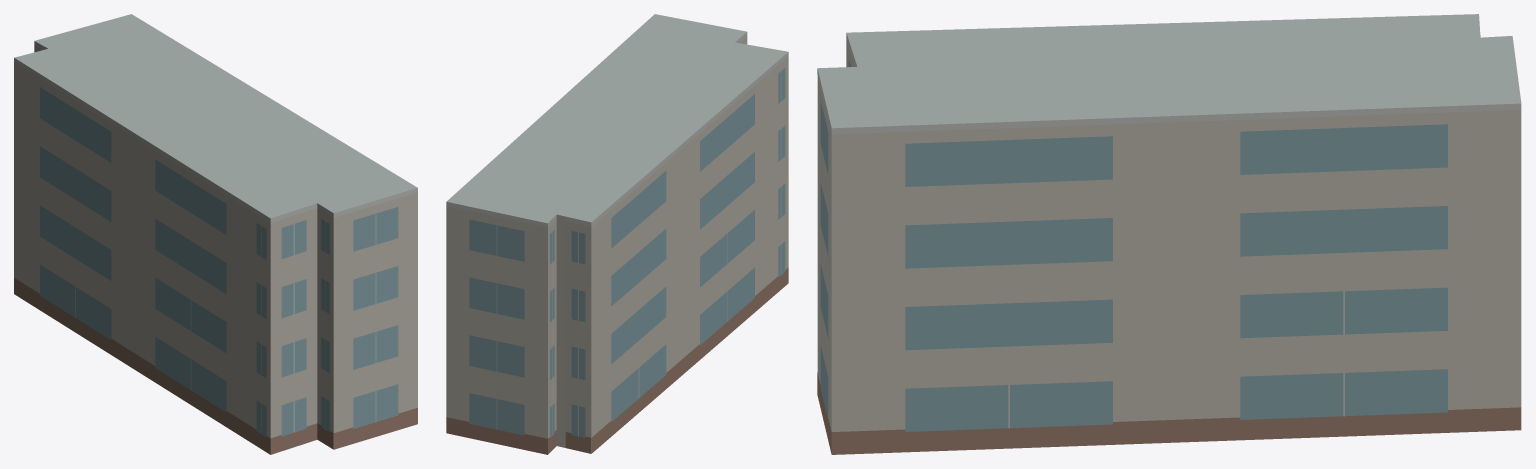
Rendered from survey-upis-32892641.glb.
The picture shows the model from 3 angles, left to right: view 1: azimuth 30°, elevation 25°; view 2: azimuth 150°, elevation 25°; view 3: azimuth 270°, elevation 25°; orthographic projection. The views are drawn at different scales.
Parts seen in each view (by area): view 1: survey-upis-32892641.tmp; view 2: survey-upis-32892641.tmp; view 3: survey-upis-32892641.tmp.
Part boxes in pixels (x1=…): survey-upis-32892641.tmp: x1=14, y1=14, x2=417, y2=454; survey-upis-32892641.tmp: x1=446, y1=14, x2=788, y2=454; survey-upis-32892641.tmp: x1=817, y1=14, x2=1521, y2=454.
Size of the model in its own units: 9.61 by 12.8 by 25.01.
